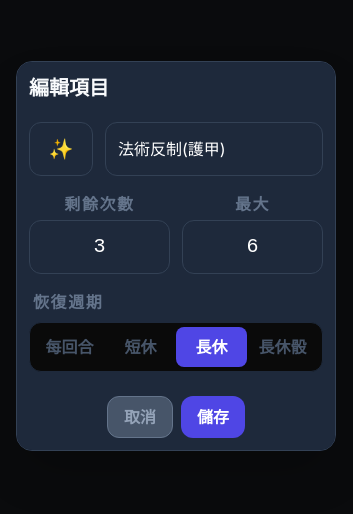
Test: CombatItemEditModal - 長休骰 › 選了「長休骰」後顯示輸入框（預設 1d6）與說明文字，沒有預設骰子按鈕
Click the button "長休骰" at (282, 347), box [247,327,318,367]
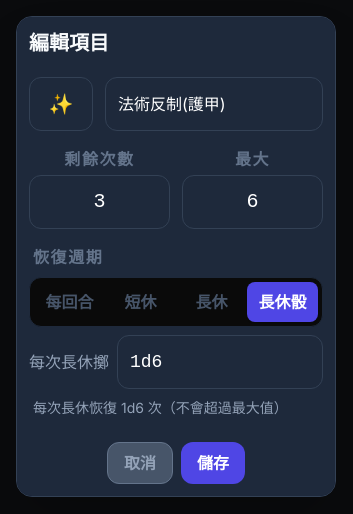
Result: the field named "長休恢復骰子" holds "1d6" at [117,334,323,388]
Result: the text "每次長休恢復 1d6 次（不會超過最大值）" is shown at [33,396,323,418]
